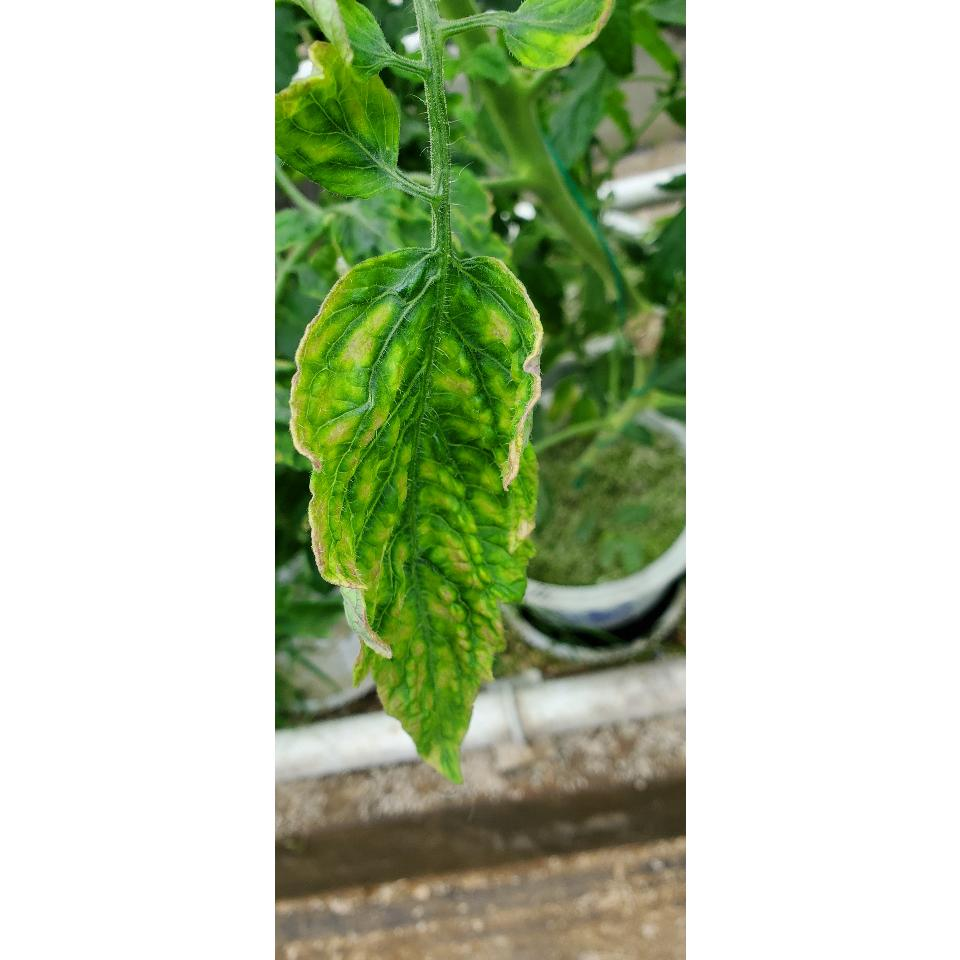tomato_yellow_leaf_curl_virus: (290, 247, 558, 796)
